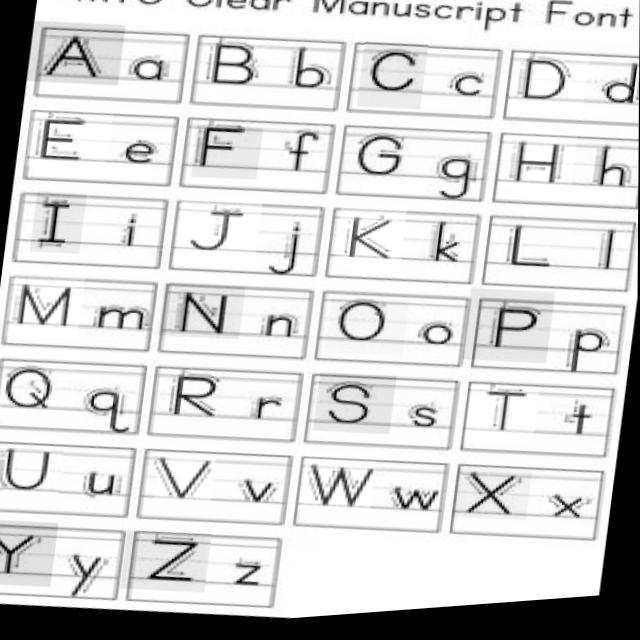E: (304, 454, 378, 508)
I: (35, 195, 79, 252)
J: (189, 203, 248, 256)
M: (12, 283, 78, 332)
P: (485, 302, 539, 353)
T: (162, 369, 220, 424)
W: (1, 367, 62, 418)
